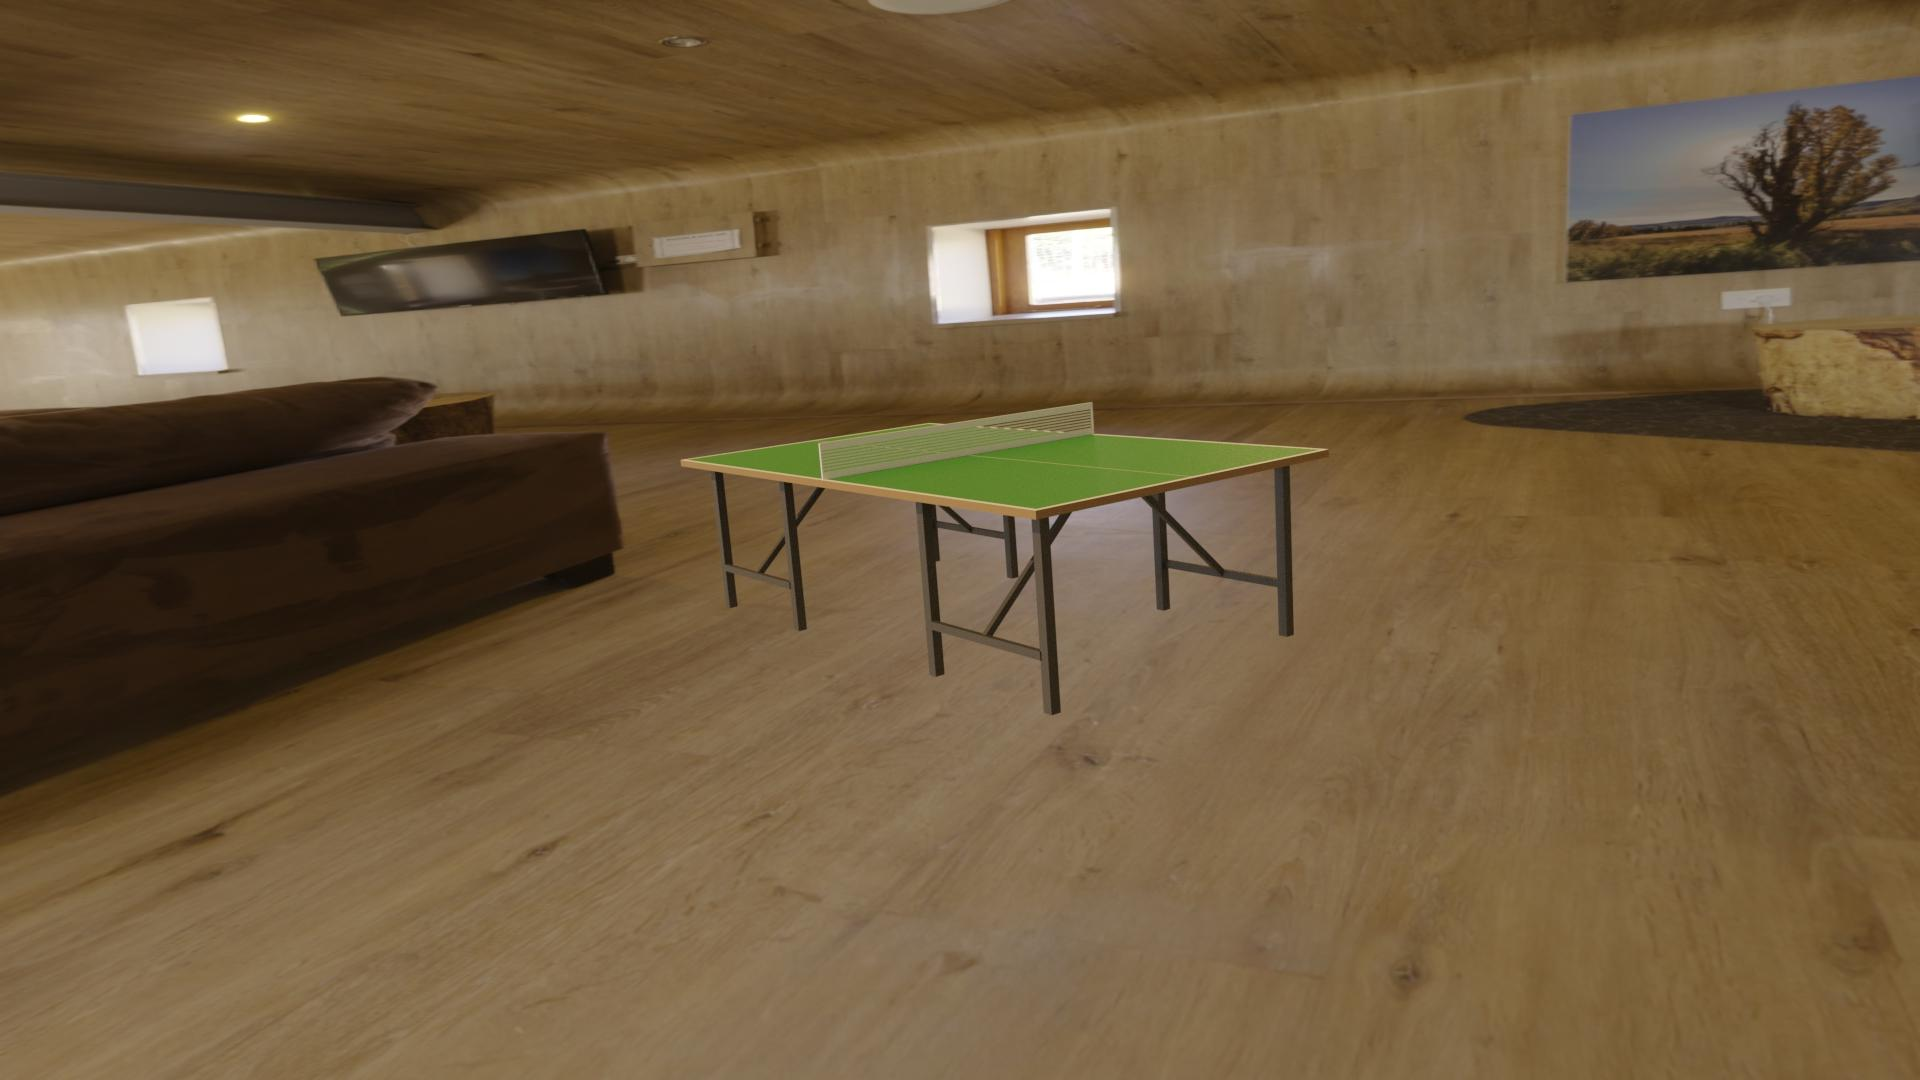table: (686, 423, 1321, 509)
